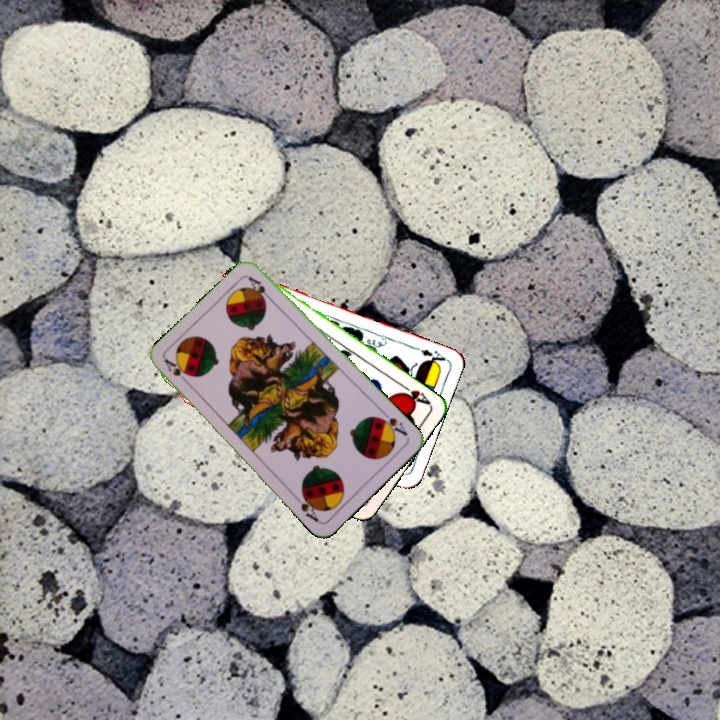EA: (410, 343, 449, 368)
HA: (395, 380, 434, 408)
SA: (374, 407, 410, 439), (160, 355, 191, 388)
